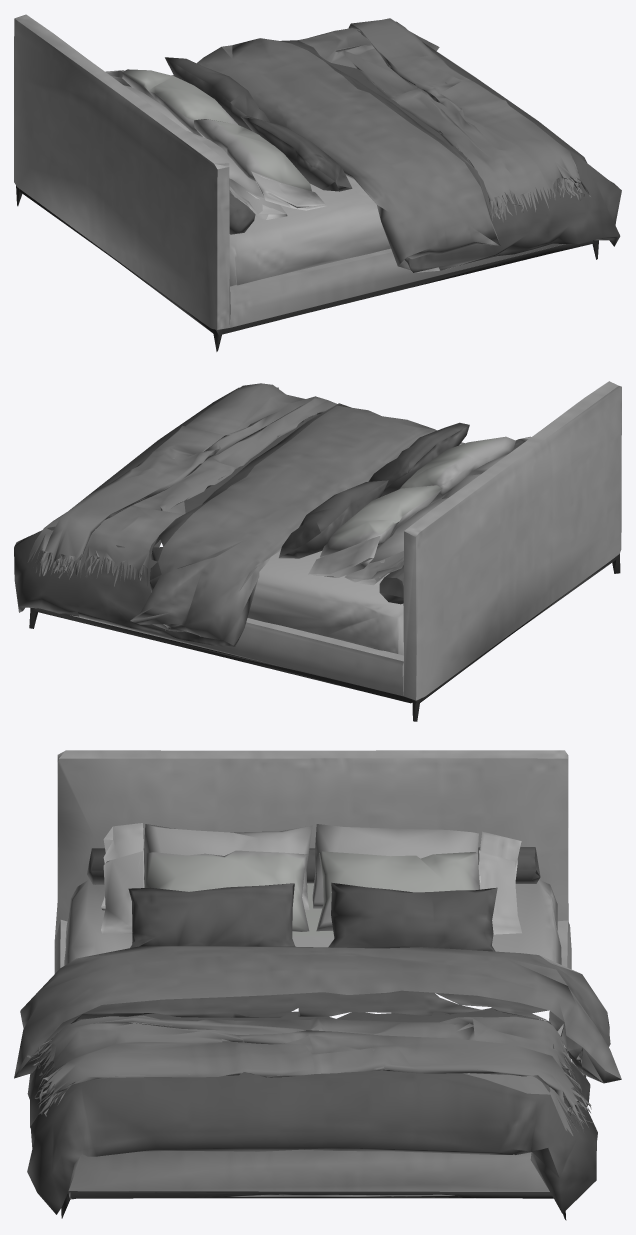
The model's file is Bed0010.obj.
3 renders of one model, top to bottom at view 1: azimuth 30°, elevation 25°; view 2: azimuth 150°, elevation 25°; view 3: azimuth 270°, elevation 25°, orthographic. The views are drawn at different scales.
Bounding box in the file's own units: 2.06 × 0.893 × 2.08.
1 material, 1 textured.
